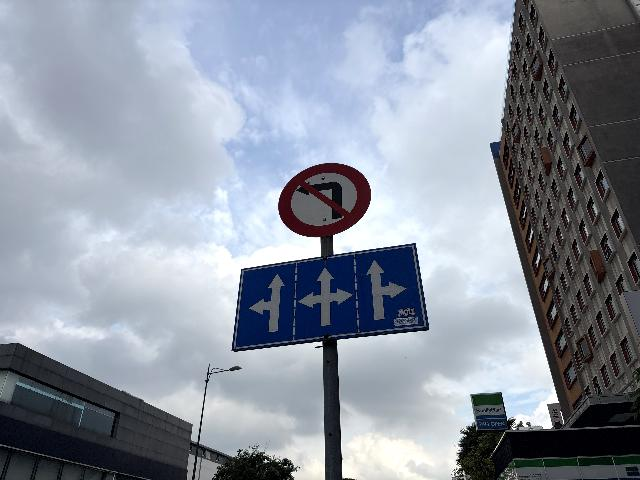cam-re-trai: (278, 161, 371, 239)
